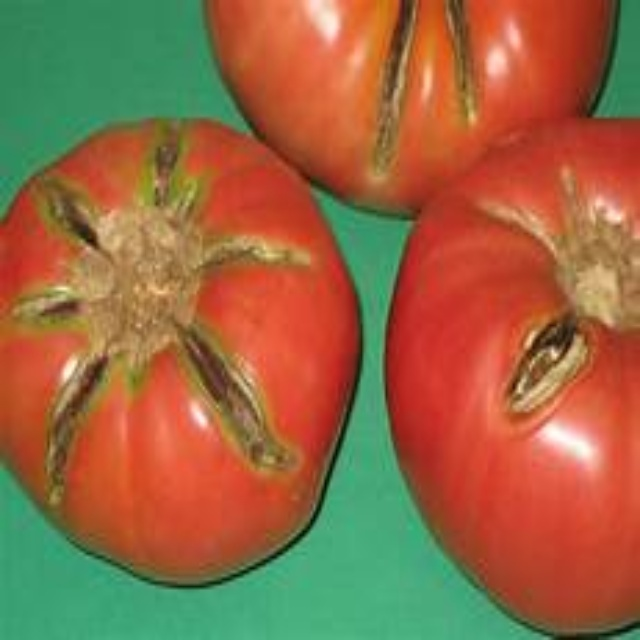tomato: (4, 110, 354, 584), (384, 122, 639, 635), (196, 5, 636, 219)
